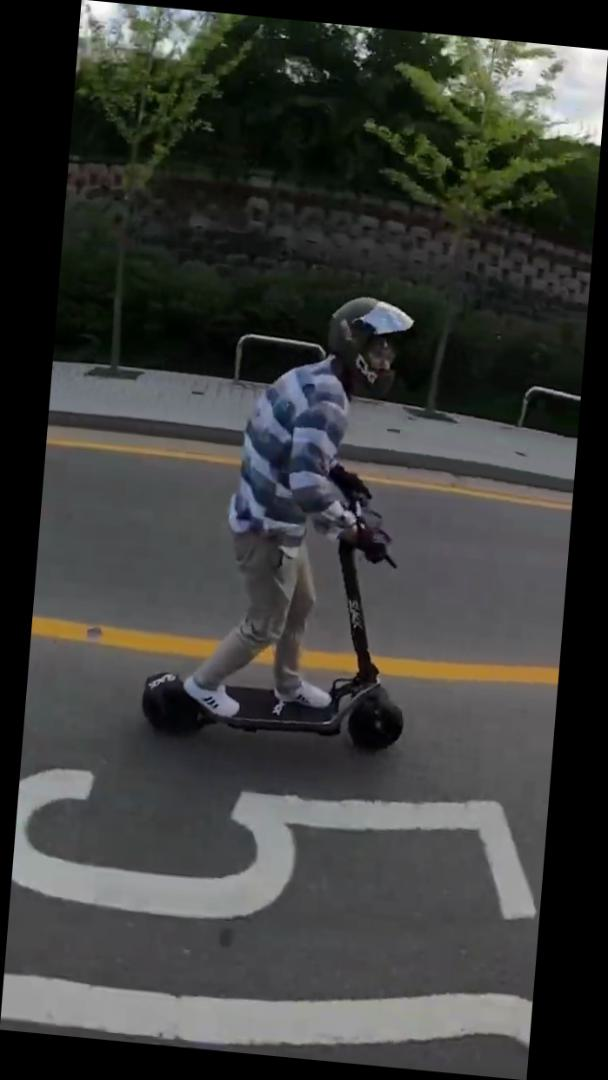helmet: (136, 275, 443, 763)
